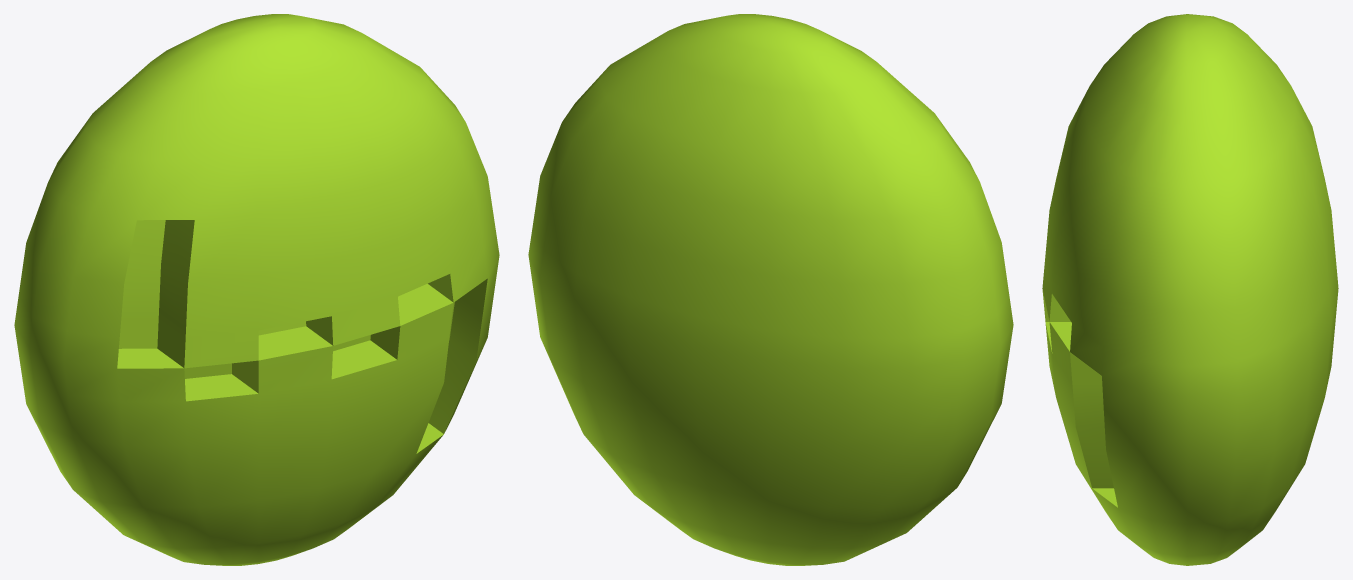
File: Green_stone.fbx
3 views of the same model, side by side, from view 1: azimuth 30°, elevation 25°; view 2: azimuth 150°, elevation 25°; view 3: azimuth 270°, elevation 25° (orthographic). The views are drawn at different scales.
Parts seen in each view (by area): view 1: polySurface33; view 2: polySurface33; view 3: polySurface33.
Boxes of the visible parts, x1,y1,x2,y2 form: polySurface33: [14, 14, 499, 565]; polySurface33: [528, 14, 1013, 565]; polySurface33: [1042, 14, 1338, 565].
Size of the model in its own units: 0.8792 by 0.969 by 0.5084.
